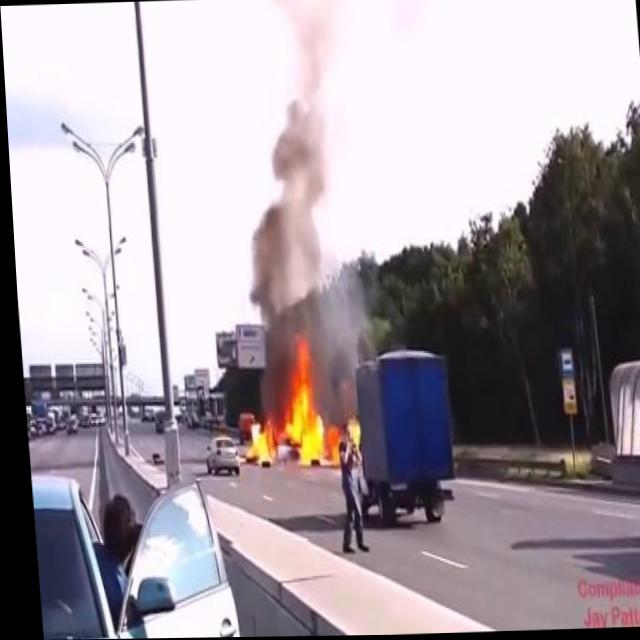fire: (232, 328, 360, 476)
